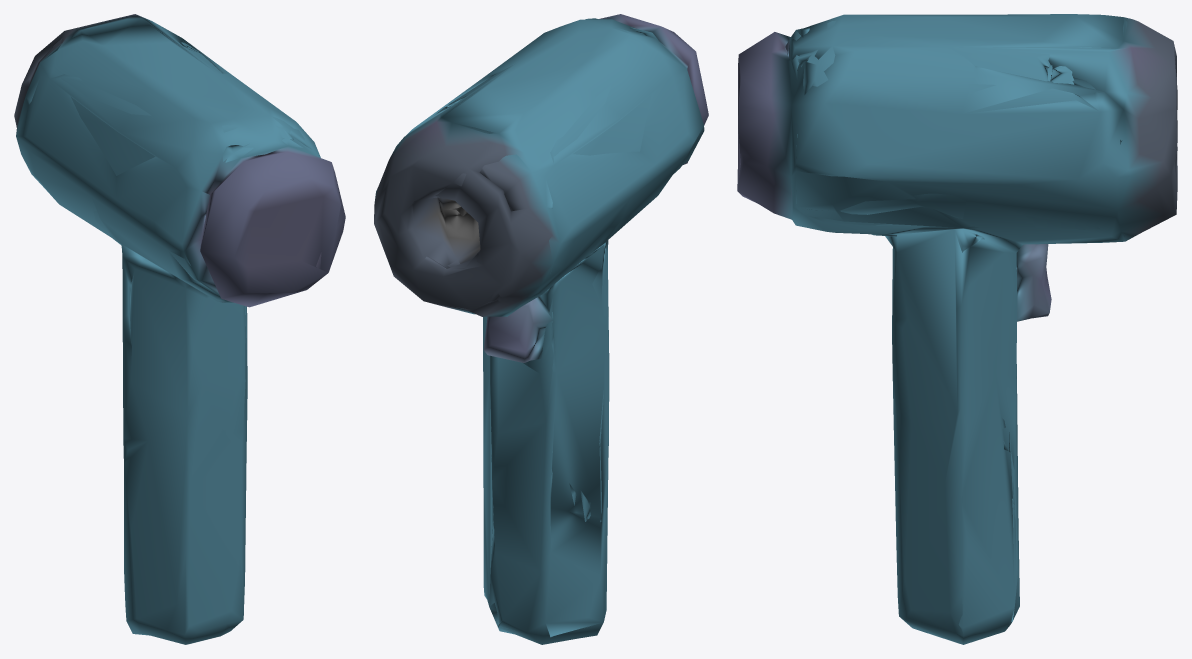
Rendered from gen3d-hair-dryer-lod0.glb.
3 views of the same model, side by side, from view 1: azimuth 30°, elevation 25°; view 2: azimuth 150°, elevation 25°; view 3: azimuth 270°, elevation 25° (orthographic). The views are drawn at different scales.
Visible parts, largest first — view 1: part_0; view 2: part_0; view 3: part_0.
Boxes of the visible parts, x1=… form: part_0: x1=14, y1=14, x2=345, y2=644; part_0: x1=374, y1=14, x2=708, y2=644; part_0: x1=737, y1=14, x2=1177, y2=644.
Bounding box in the file's own units: 0.3473 × 0.9992 × 0.6599.
